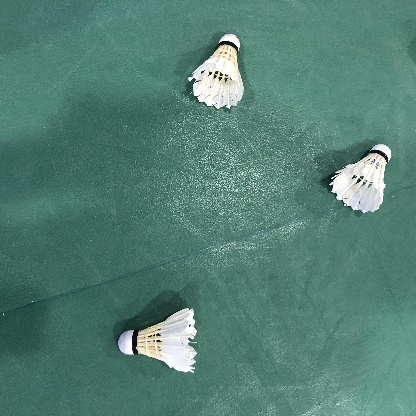ball_single: (118, 308, 197, 372), (329, 144, 391, 213), (188, 34, 244, 109)
